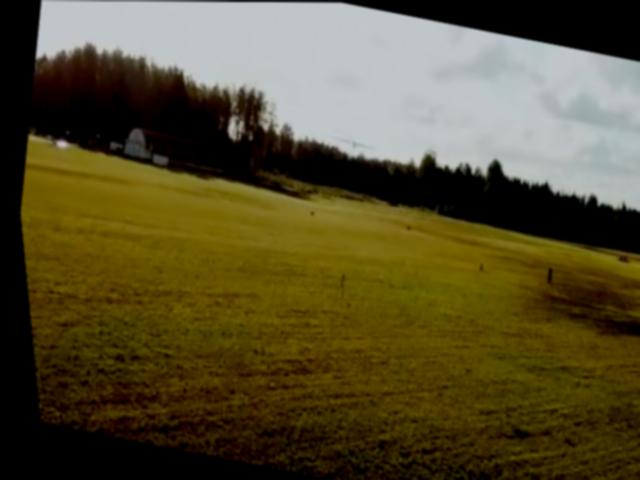iha: (329, 134, 373, 151)
